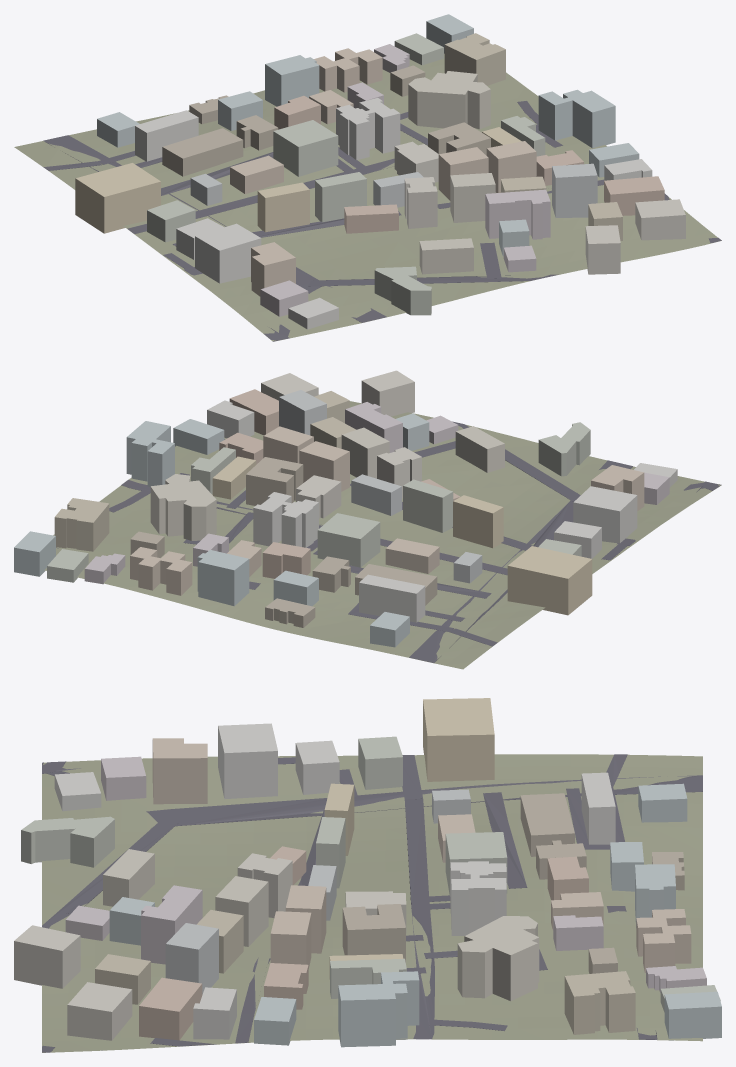
The model's file is chunk_2_3.glb.
3 renders of one model, top to bottom at view 1: azimuth 30°, elevation 25°; view 2: azimuth 150°, elevation 25°; view 3: azimuth 270°, elevation 25°, orthographic. The views are drawn at different scales.
Visible parts, largest first — view 1: geometry_55, geometry_0, geometry_18, geometry_17, geometry_19, geometry_29, geometry_25, geometry_2, geometry_16, geometry_42, geometry_13, geometry_49 (+49 smaller); view 2: geometry_55, geometry_0, geometry_18, geometry_19, geometry_29, geometry_25, geometry_17, geometry_49, geometry_42, geometry_45, geometry_51, geometry_11 (+44 smaller); view 3: geometry_55, geometry_18, geometry_0, geometry_17, geometry_61, geometry_29, geometry_42, geometry_4, geometry_19, geometry_60, geometry_20, geometry_31 (+49 smaller).
Part boxes in pixels (x1,y1,x2,y2): geometry_55: (14, 53, 721, 341); geometry_0: (75, 163, 160, 233); geometry_18: (408, 71, 490, 129); geometry_17: (538, 89, 615, 148); geometry_19: (336, 98, 400, 160); geometry_29: (195, 223, 261, 283); geometry_25: (273, 120, 338, 176); geometry_2: (162, 128, 243, 176); geometry_16: (485, 189, 550, 239); geometry_42: (444, 33, 505, 85); geometry_13: (552, 163, 597, 217); geometry_49: (265, 55, 319, 106); geometry_55: (44, 401, 721, 669); geometry_0: (507, 546, 592, 615); geometry_18: (150, 474, 216, 540); geometry_19: (253, 492, 318, 547); geometry_29: (573, 486, 637, 543); geometry_25: (317, 513, 380, 567); geometry_17: (126, 421, 174, 486); geometry_49: (197, 550, 249, 606); geometry_42: (54, 498, 109, 551); geometry_45: (359, 574, 425, 622); geometry_51: (130, 547, 192, 595); geometry_11: (453, 495, 503, 548); geometry_55: (42, 754, 702, 1052); geometry_18: (457, 916, 539, 1001); geometry_0: (423, 698, 494, 781); geometry_17: (338, 971, 419, 1047); geometry_61: (146, 775, 702, 828); geometry_29: (218, 723, 277, 799); geometry_42: (564, 971, 635, 1034); geometry_4: (21, 816, 114, 867); geometry_19: (450, 861, 506, 935); geometry_60: (404, 799, 434, 1039); geometry_20: (152, 738, 207, 804); geometry_31: (14, 925, 80, 988).
Bounding box in the file's own units: 268 × 26.25 × 268.
